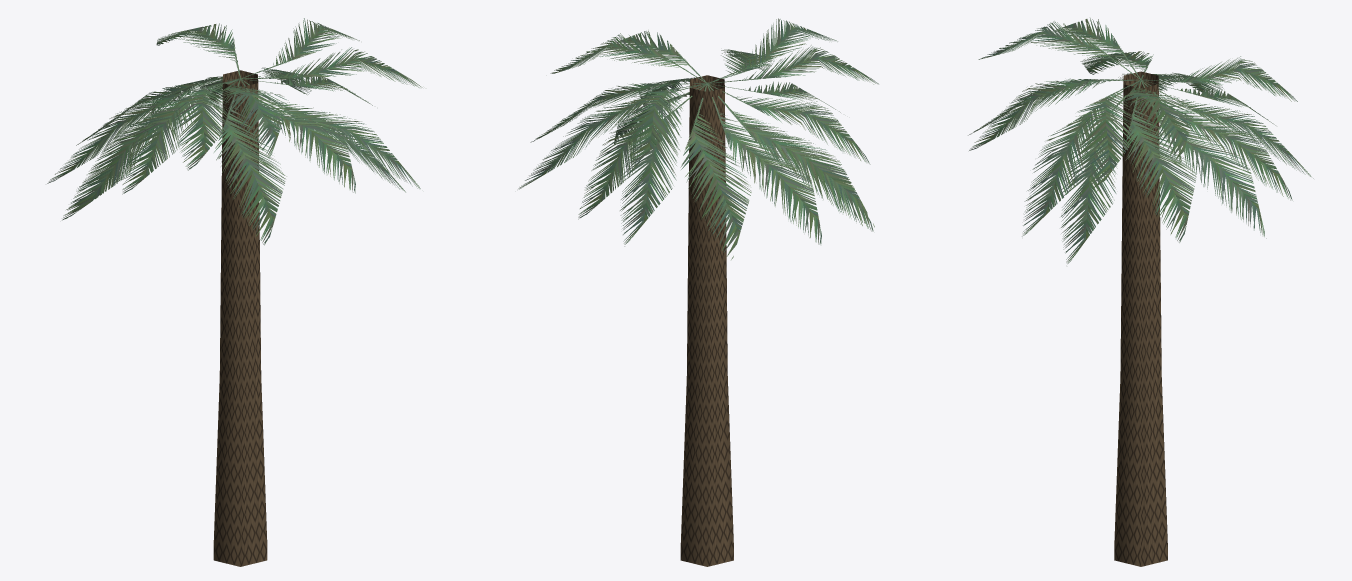
Rendered from SylvesterPalm_LOD1.fbx.
The picture shows the model from 3 angles, left to right: view 1: azimuth 30°, elevation 25°; view 2: azimuth 150°, elevation 25°; view 3: azimuth 270°, elevation 25°; orthographic projection.
Parts seen in each view (by area): view 1: SylvesterPalm_LOD1; view 2: SylvesterPalm_LOD1; view 3: SylvesterPalm_LOD1.
Part boxes in pixels (<box>): SylvesterPalm_LOD1: <box>47,18,422,566</box>; SylvesterPalm_LOD1: <box>518,18,878,566</box>; SylvesterPalm_LOD1: <box>968,18,1313,566</box>.
Size of the model in its own units: 7.88 by 9.76 by 7.02.
Materials: 1 (1 with a texture image).
